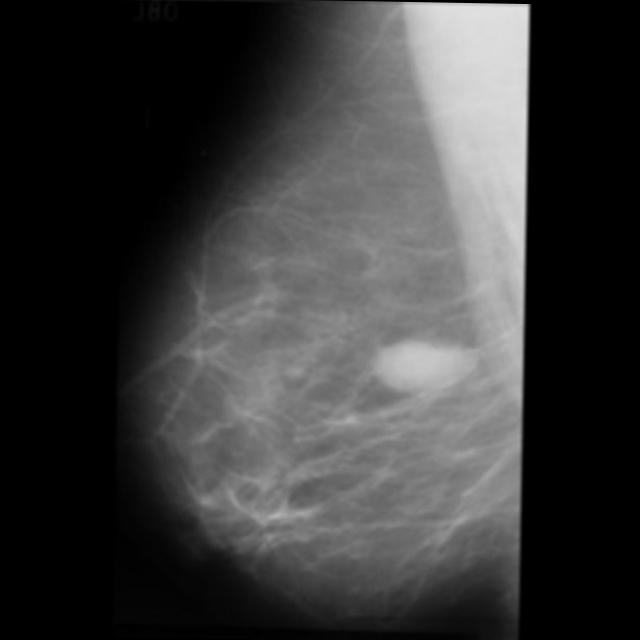CIRC: (370, 315, 471, 416)
